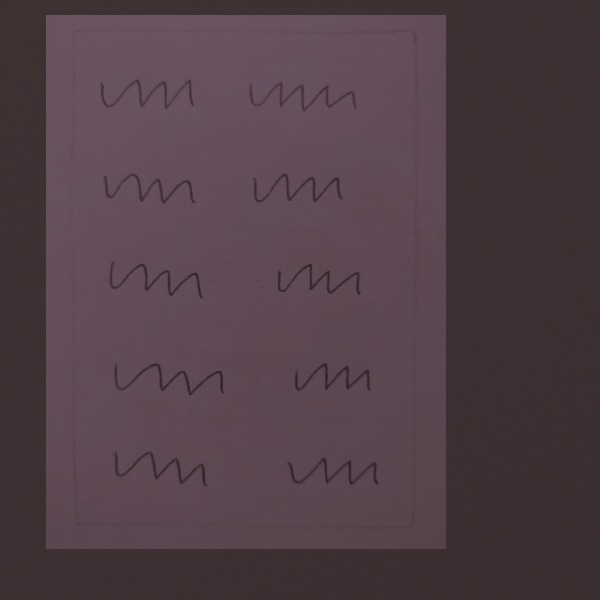text: (106, 352, 233, 411), (273, 445, 386, 502), (103, 441, 220, 496), (97, 254, 212, 307), (241, 72, 363, 121), (92, 165, 202, 216), (267, 255, 365, 307), (243, 166, 352, 212), (94, 72, 200, 116), (286, 354, 375, 402)
